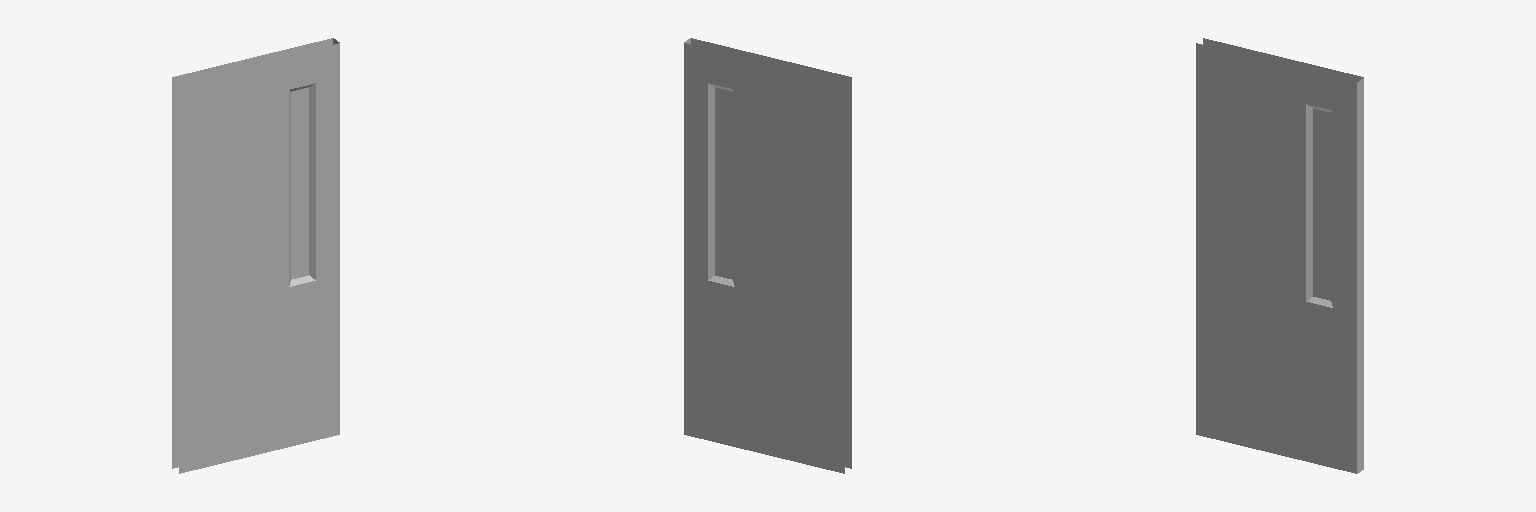
Rendered from concrete_door_mv_left.obj.
3 renders of one model, left to right at view 1: azimuth 30°, elevation 25°; view 2: azimuth 150°, elevation 25°; view 3: azimuth 330°, elevation 25°, orthographic.
Parts seen in each view (by area): view 1: concrete_door_mv_left_concrete_door.002; view 2: concrete_door_mv_left_concrete_door.002; view 3: concrete_door_mv_left_concrete_door.002.
Part boxes in pixels (x1,y1,x2,y2): concrete_door_mv_left_concrete_door.002: (172,38,339,473); concrete_door_mv_left_concrete_door.002: (684,38,851,473); concrete_door_mv_left_concrete_door.002: (1196,38,1363,473).
Size of the model in its own units: 1.01 by 2.33 by 0.075.